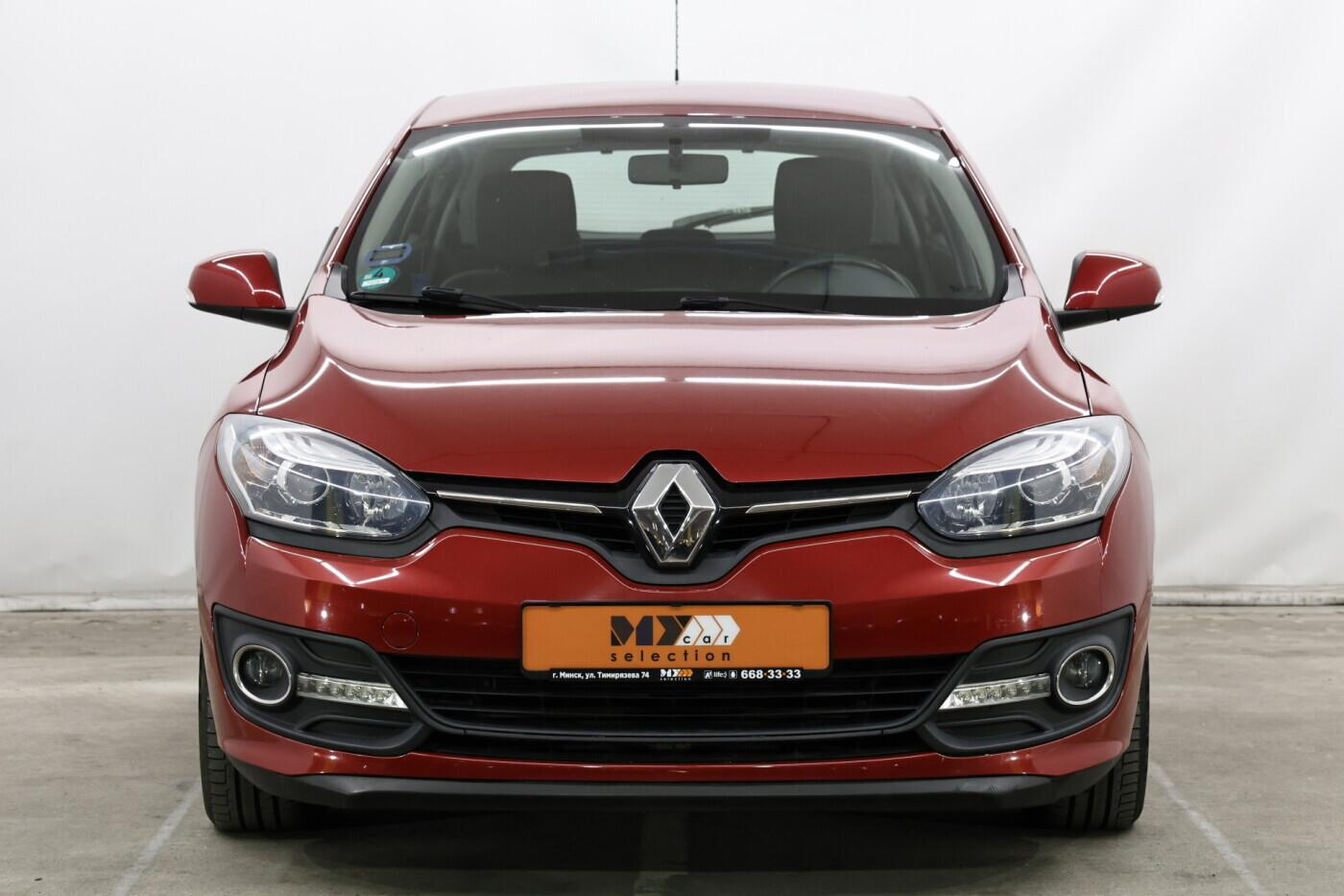Megane_2012-2014: (184, 82, 1180, 839)
